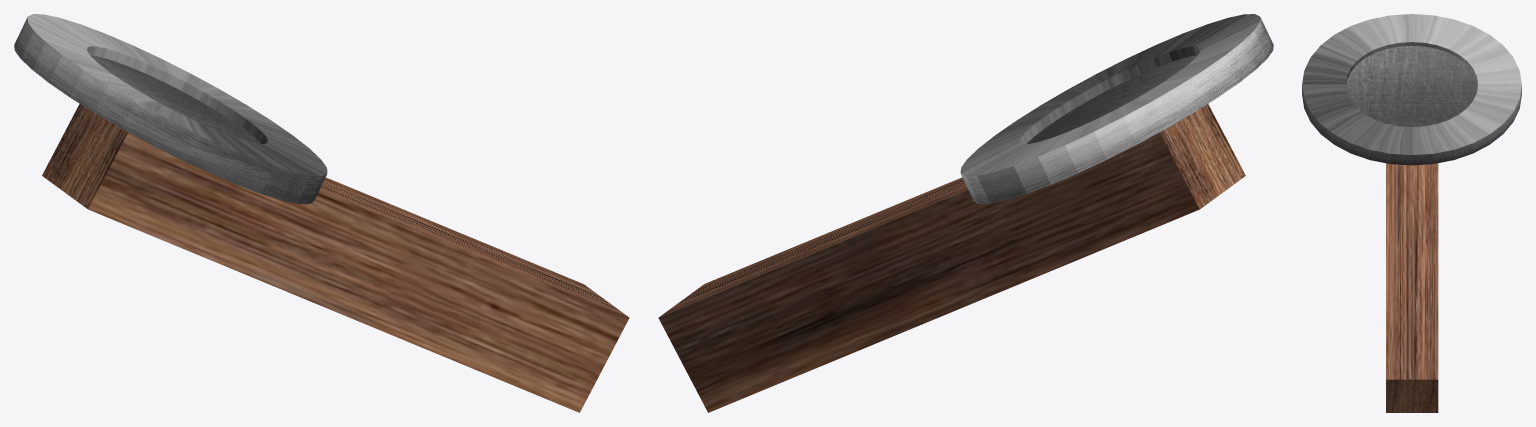
File: brazo.obj
3 views of the same model, side by side, from view 1: azimuth 30°, elevation 25°; view 2: azimuth 150°, elevation 25°; view 3: azimuth 270°, elevation 25° (orthographic). The views are drawn at different scales.
Visible parts, largest first — view 1: brazo_Material.002, brazo_Material.003; view 2: brazo_Material.002, brazo_Material.003; view 3: brazo_Material.003, brazo_Material.002.
Boxes of the visible parts, x1,y1,x2,y2 form: brazo_Material.002: (42, 104, 629, 412); brazo_Material.003: (14, 14, 327, 204); brazo_Material.002: (658, 104, 1245, 412); brazo_Material.003: (960, 14, 1273, 204); brazo_Material.003: (1302, 14, 1521, 165); brazo_Material.002: (1386, 163, 1438, 412).
Size of the model in its own units: 3.06 by 2.42 by 1.84.
